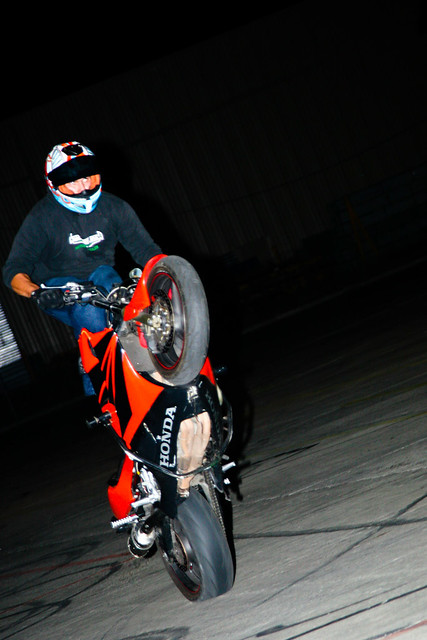helmet: (45, 135, 107, 222)
